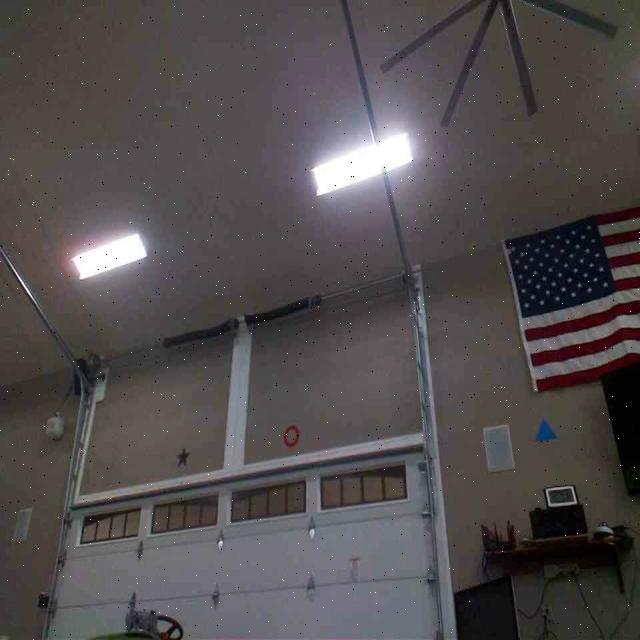ring_red: (282, 422, 301, 448)
star_black: (175, 447, 190, 466)
triangle_blue: (534, 416, 558, 440)
